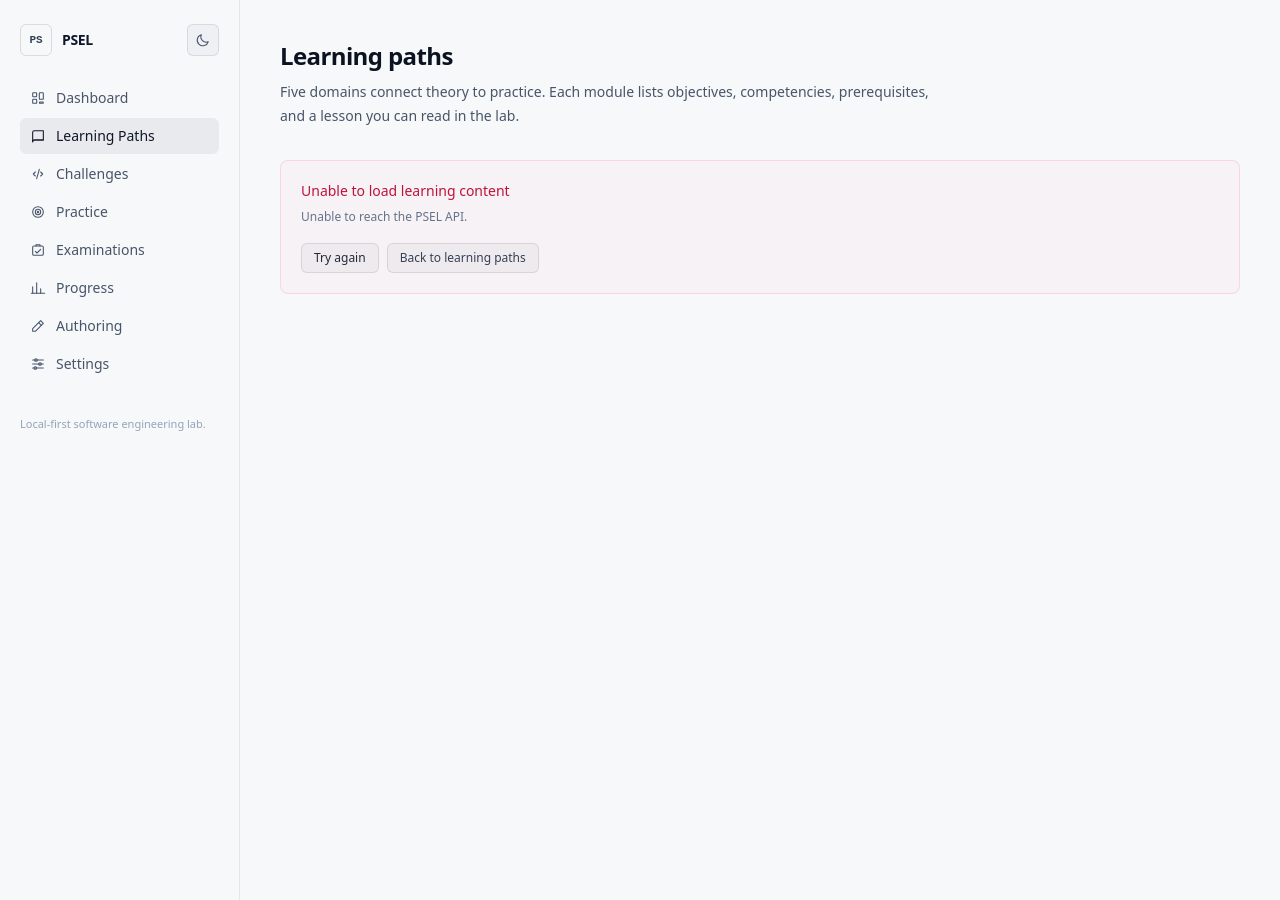
Scenario: LearningPathsPage › shows an error state and retries the request
Expected: the message is shown, x1=280 y1=160 x2=1240 y2=294
Expected: the text "Unable to reach the PSEL API." is shown, x1=301 y1=208 x2=467 y2=225
Click the button "Try again" at (340, 258), box x1=301 y1=243 x2=379 y2=273
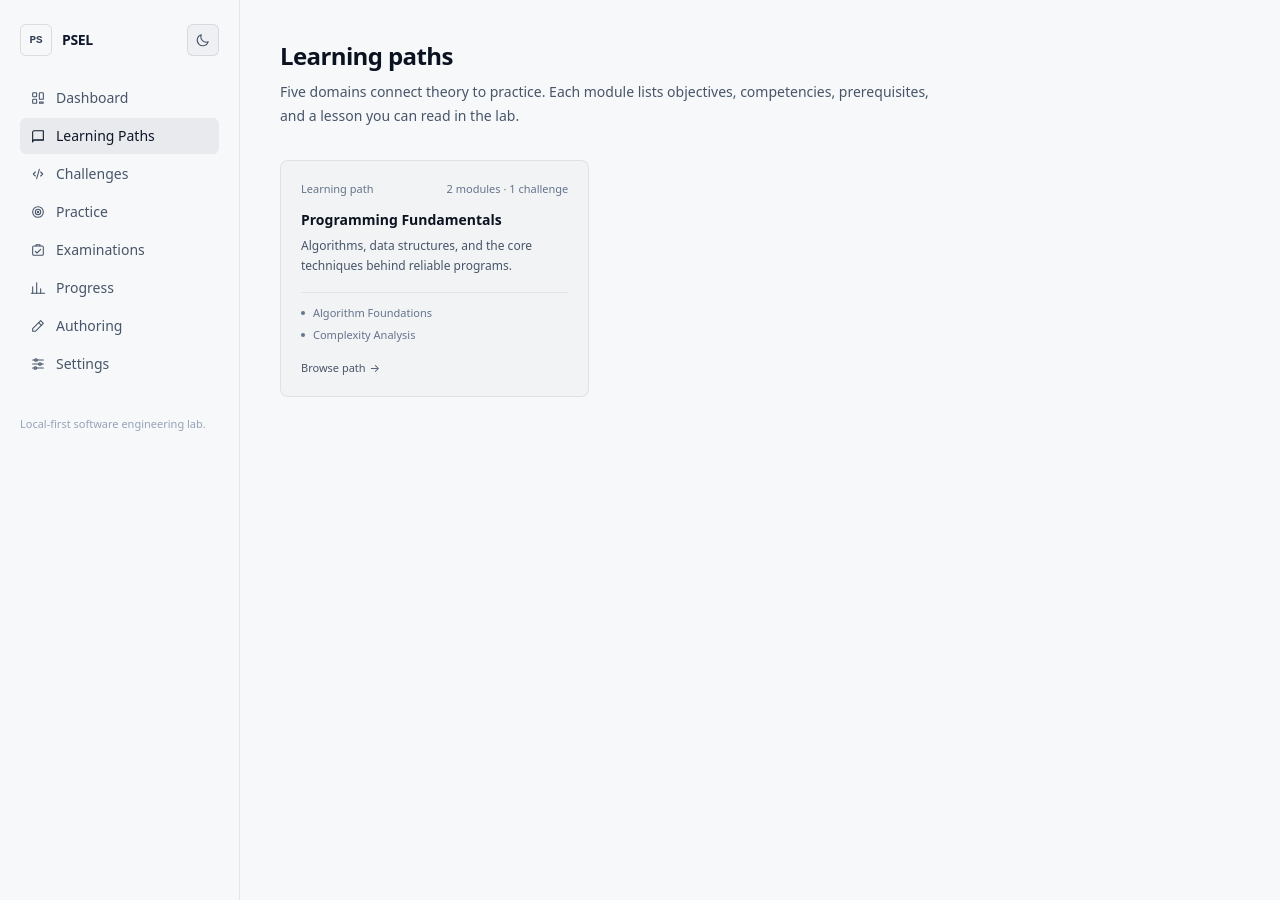
Expected: the link "Programming Fundamentals" is shown, x1=280 y1=160 x2=589 y2=397
